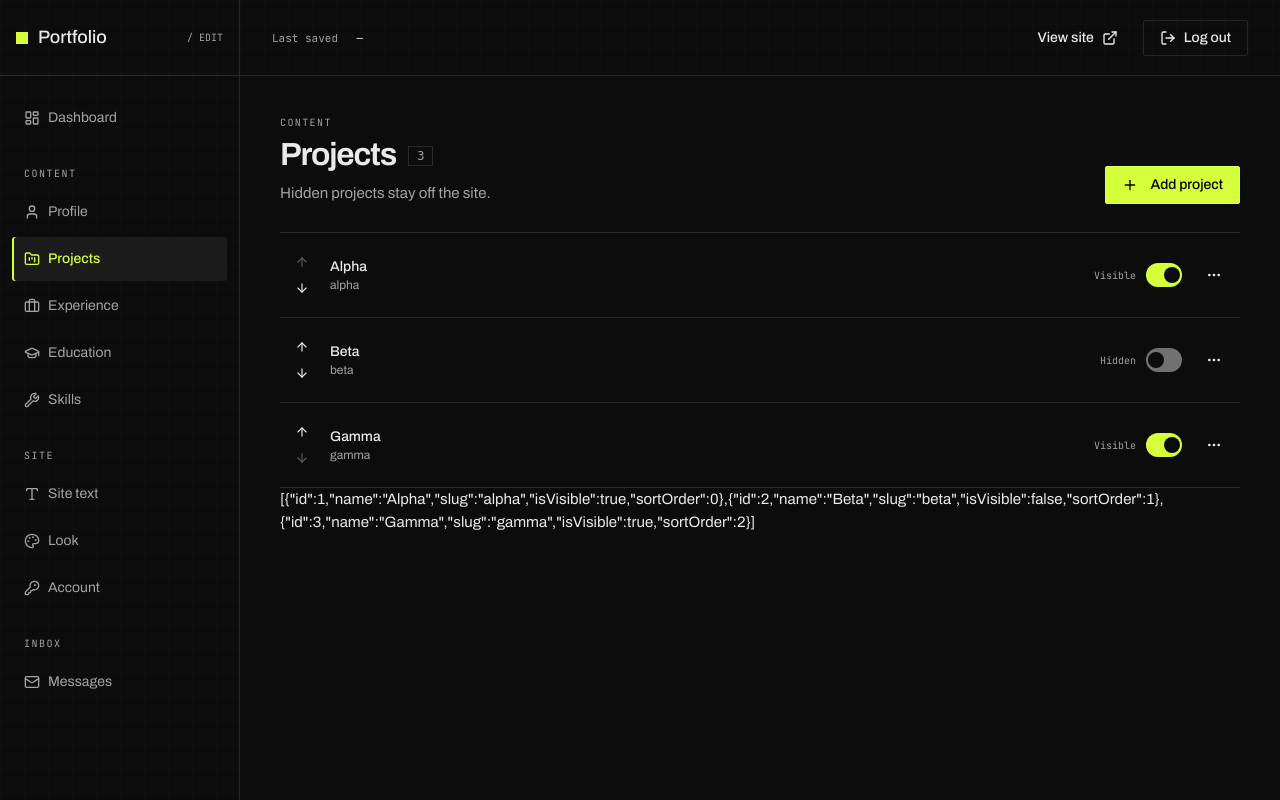
Test: ListEditor › row click opens the panel; Save sends PUT with the edited value then closes and toasts "Saved"
Click the text "Beta": (345, 352) [330, 342, 360, 362]
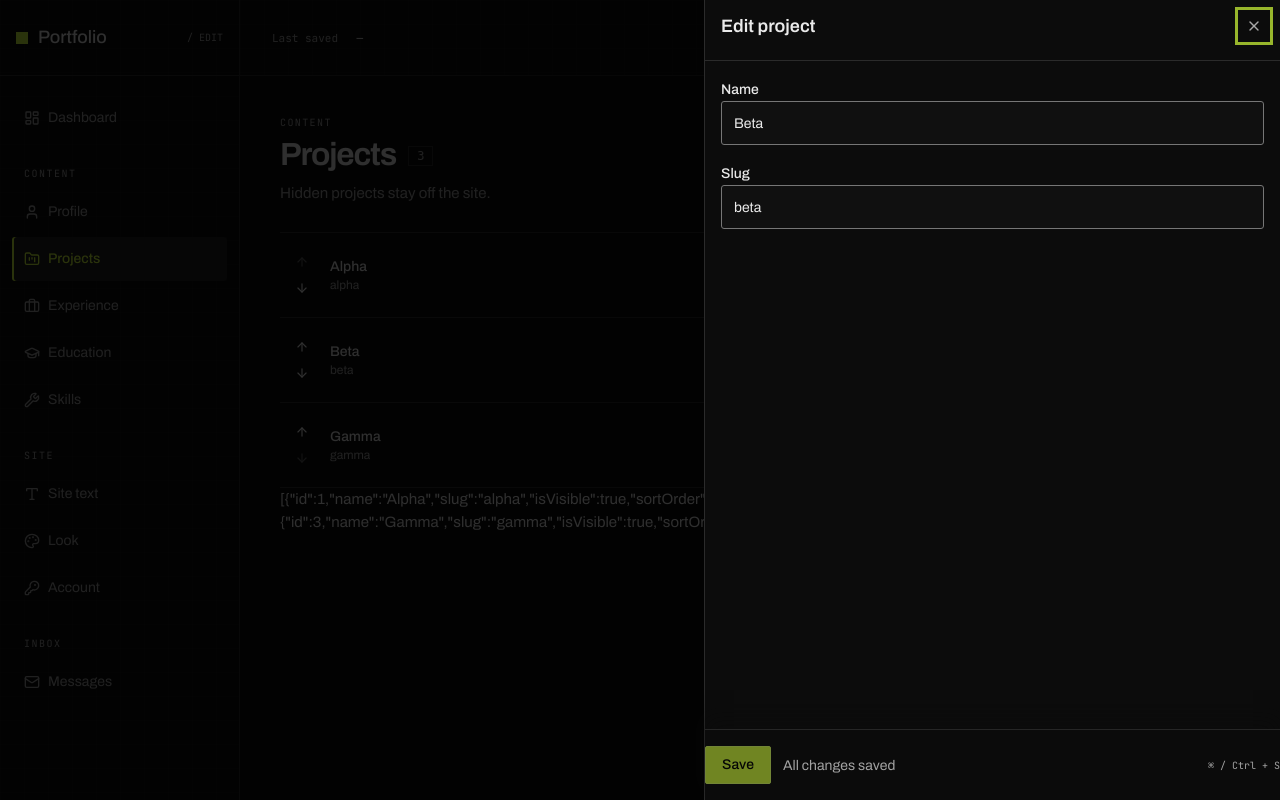
Replace the text in the field labelled "Name" with "Beta 2": (992, 123) [721, 101, 1264, 145]
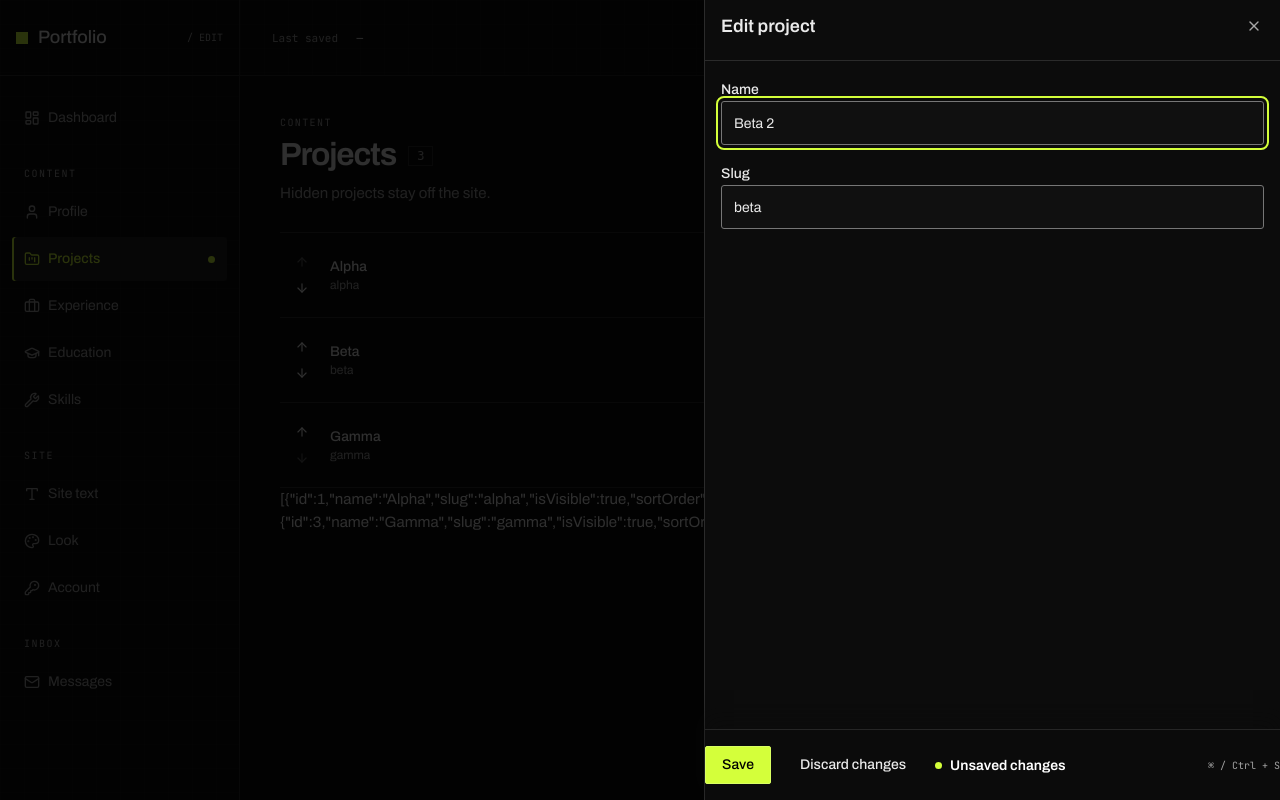
Click the button "Save": (738, 765) [705, 746, 771, 784]
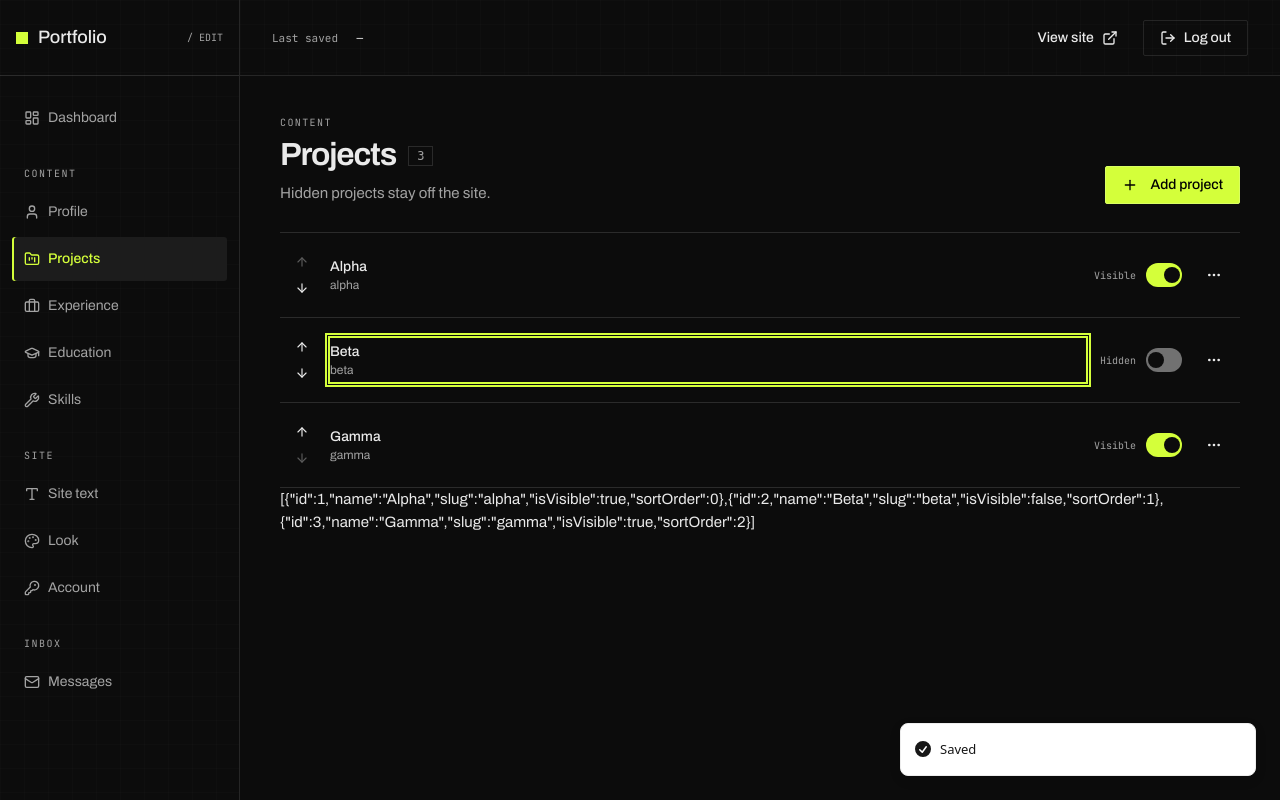
Result: the text "Saved" is shown at [940, 740, 976, 759]
Result: the dialog is gone
